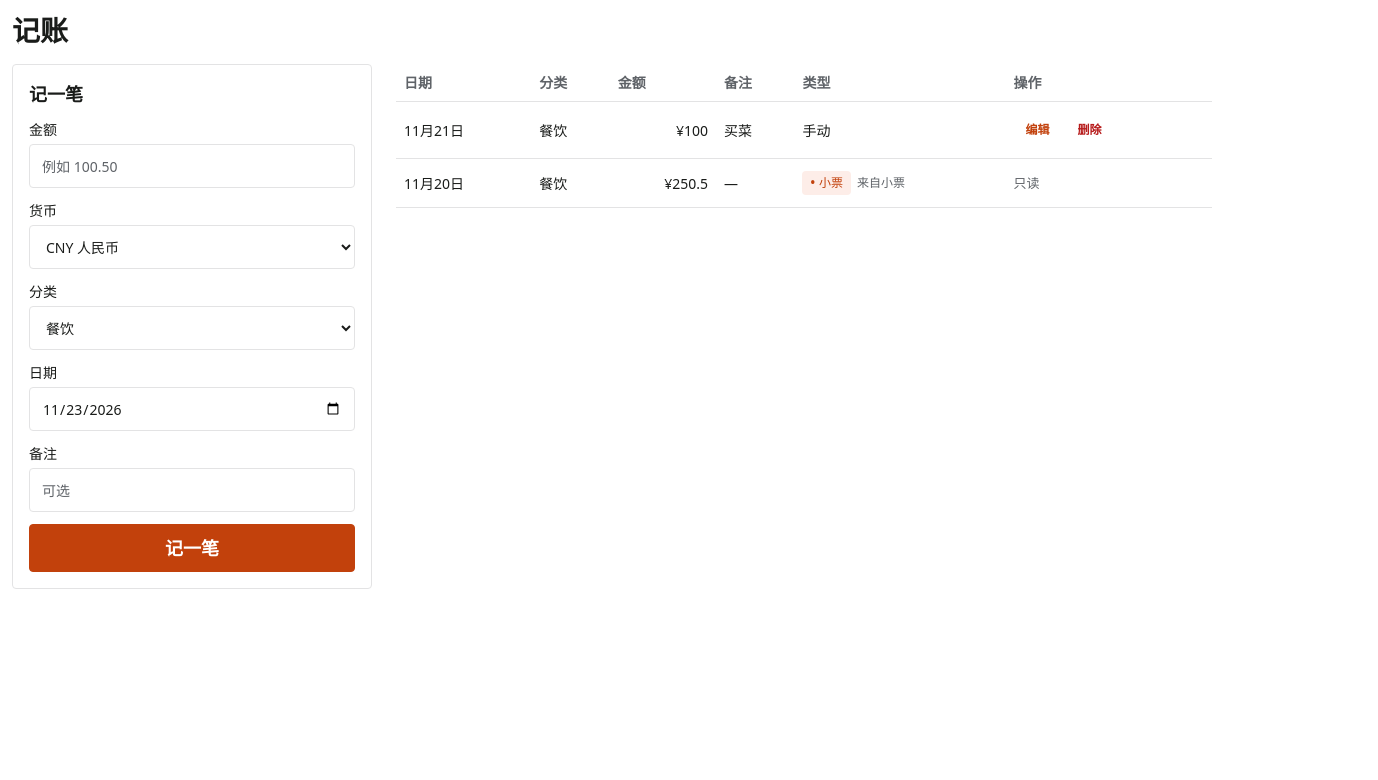
Test case: TransactionsPage › form validation rejects bad amounts before any POST
Expected: the text "¥100" is shown, [610, 102, 716, 158]
Type "100.555" into the field labelled "金额" at (192, 166), box [29, 144, 355, 188]
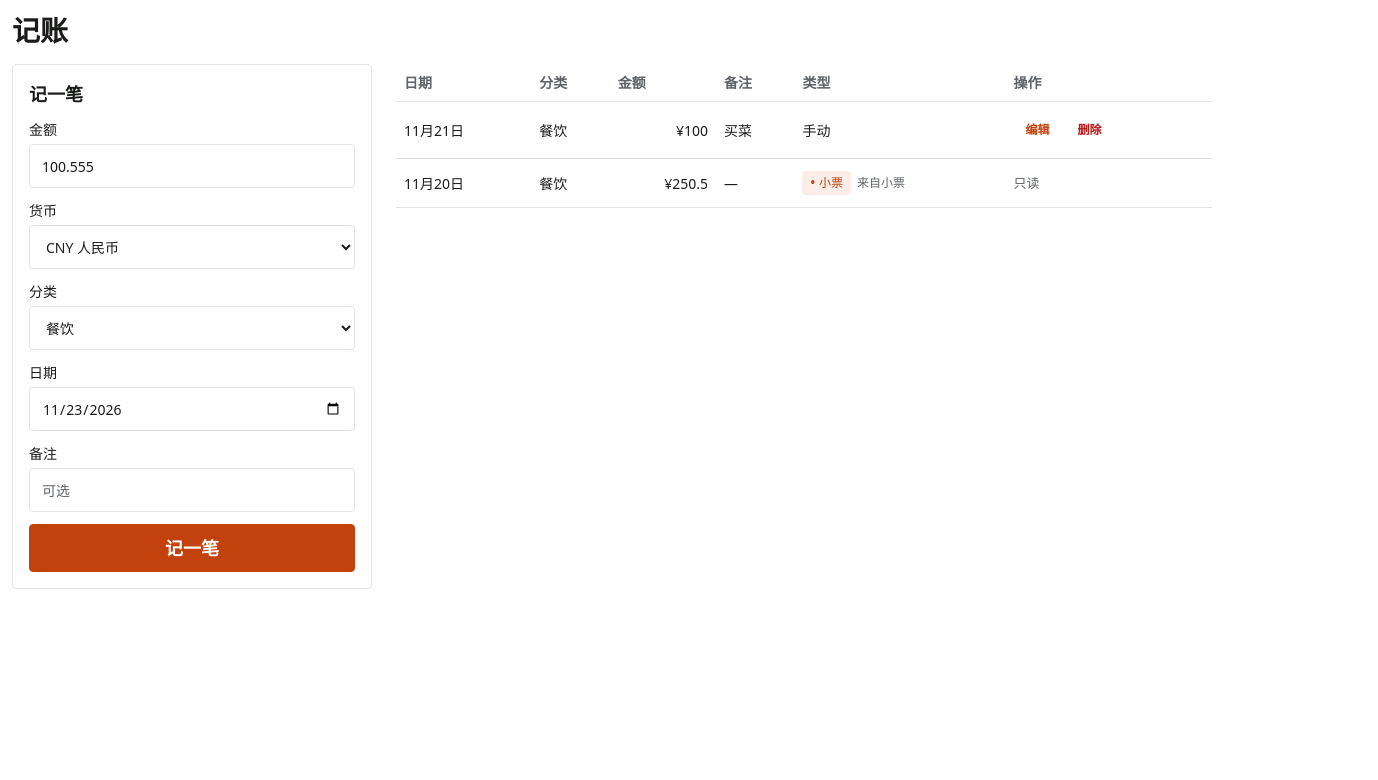
Click the button "记一笔" at (192, 548), box [29, 524, 355, 572]
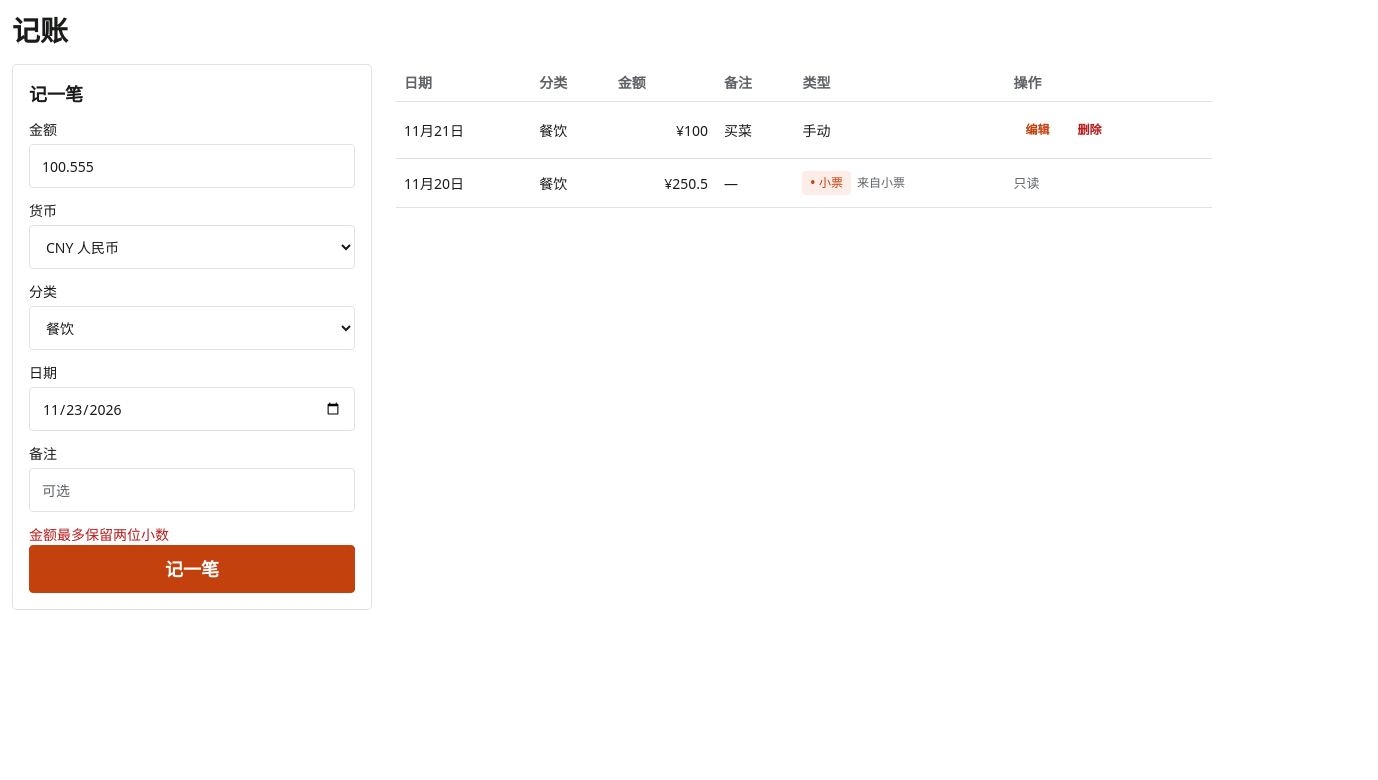
Result: the text "金额最多保留两位小数" is shown at [29, 525, 169, 544]
